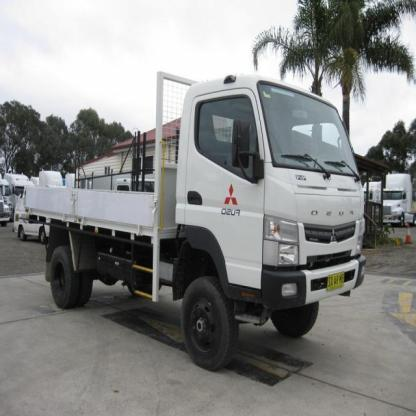truck: (27, 68, 369, 371)
